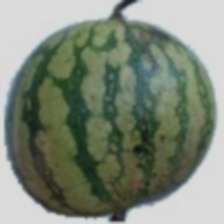watermelon: (52, 35, 208, 200)
